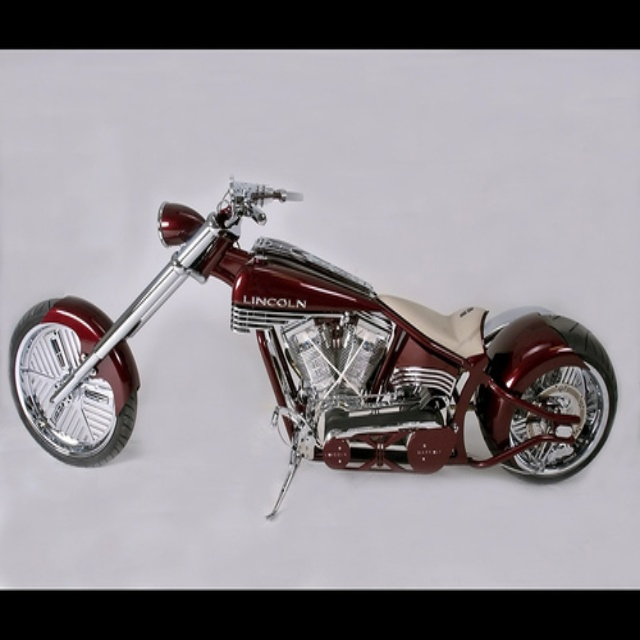Motorcycle: (8, 179, 618, 483)
